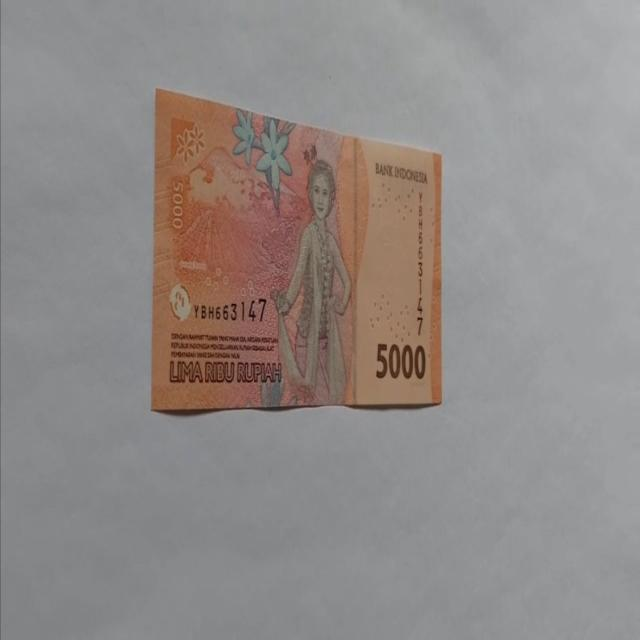lima ribu rupiah: (150, 86, 444, 414), (269, 158, 353, 406)
